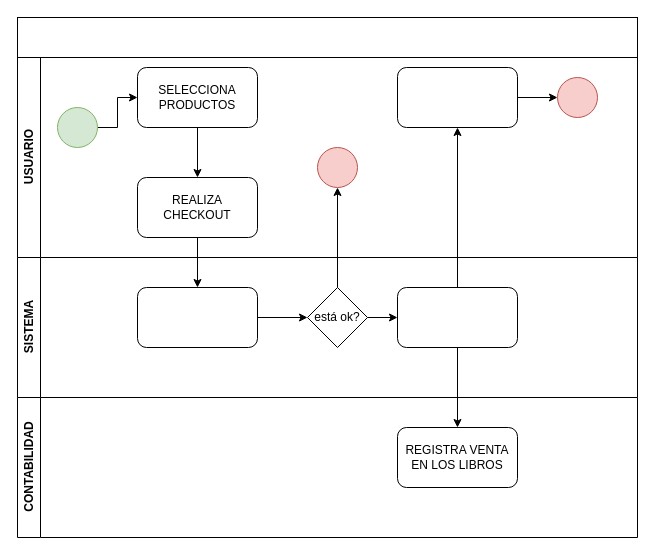
Image size: 655x555. Some labels were removed from this diagram. The shapes that lost their labels are listed below. From the top down, each one's centre as x and y in pixels, then its label:
At (x=327, y=37): "PAGO ONLINE".
At (x=457, y=97): "REALIZA EVALUACIÓN DE SERVICIO".
At (x=197, y=317): "VALIDA DATOS CLIENTE".
At (x=457, y=317): "NOTIFICA AL USUARIO".
